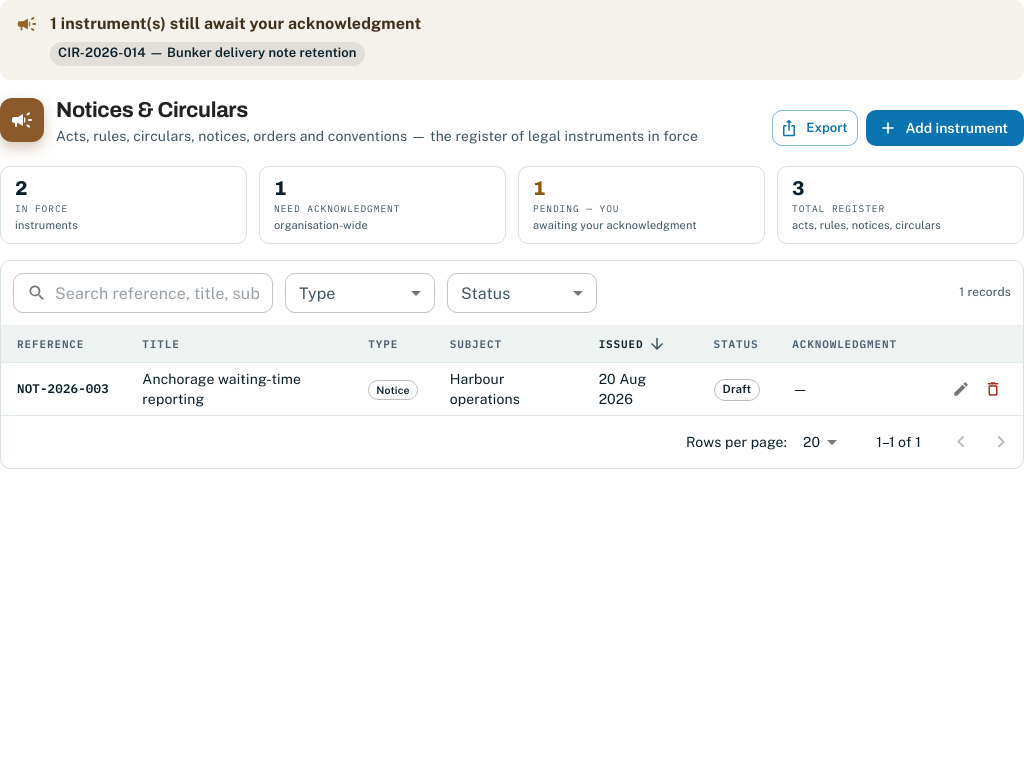
Notices & Circulars register › refuses to offer approval on a draft this reader drafted
The image size is (1024, 768).
Click the text "Anchorage waiting-time reporting". click: click(239, 389)
box: [126, 363, 352, 416]
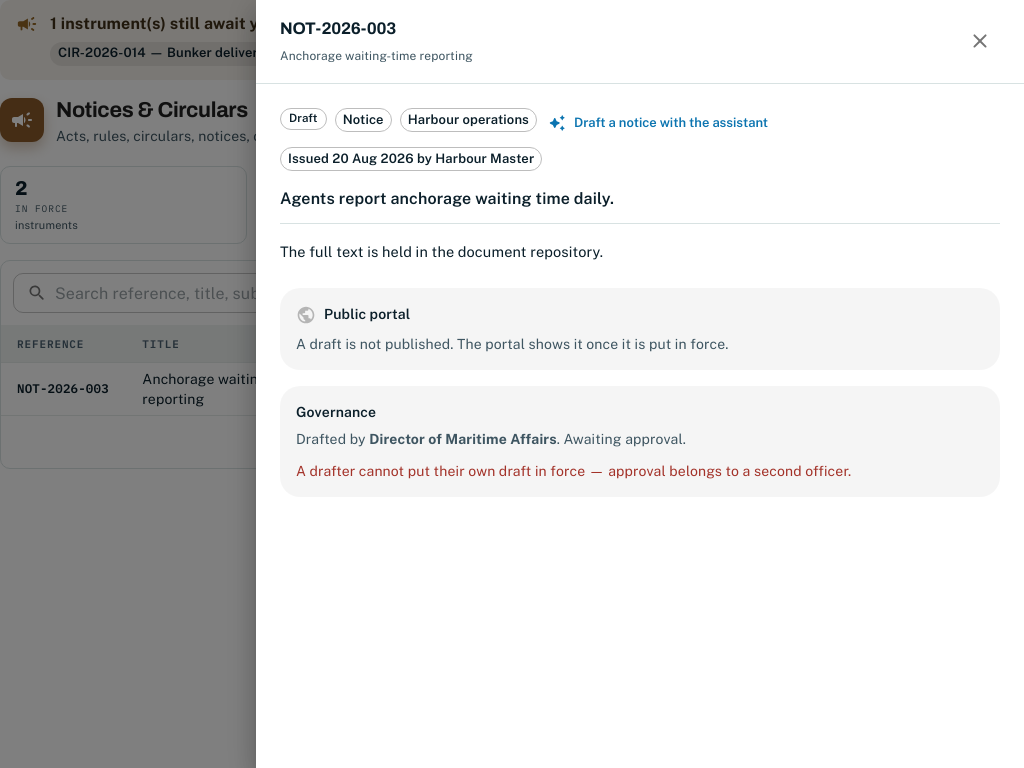
Expected: the text "A drafter cannot put their own draft in force — approval belongs to a second officer." is shown, [296, 463, 851, 479]
